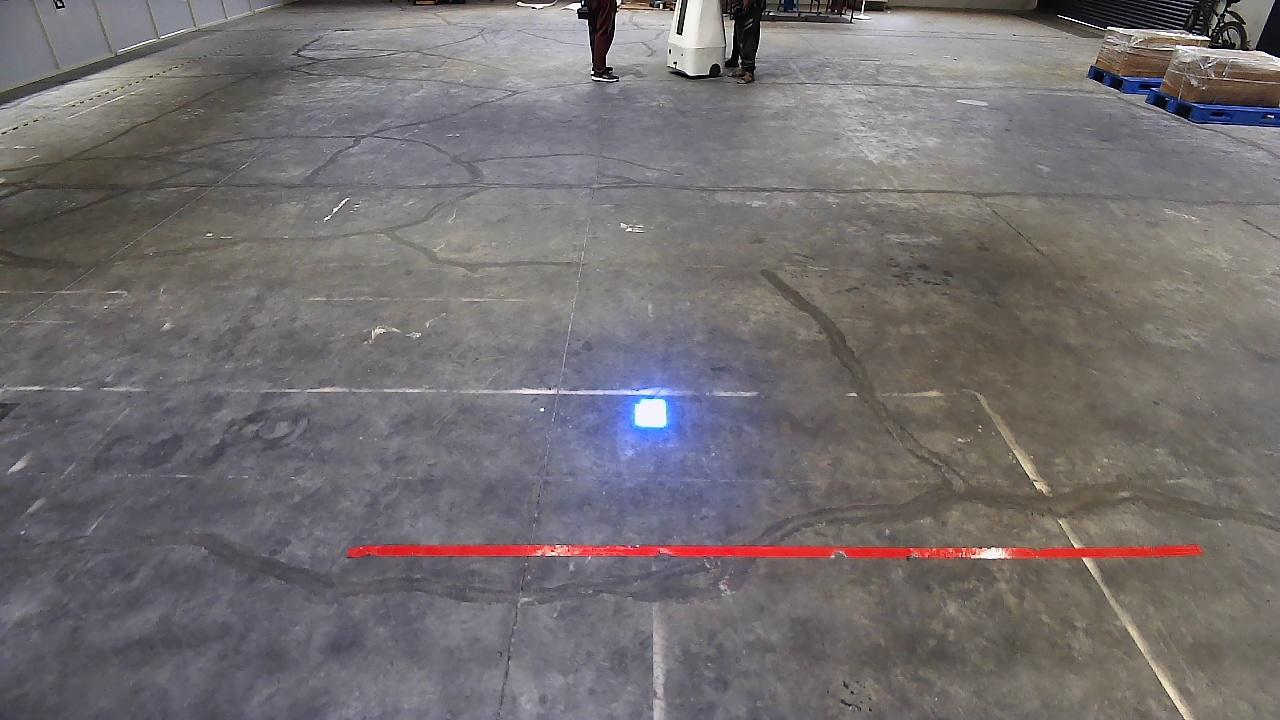red_line: (349, 542, 1213, 555)
